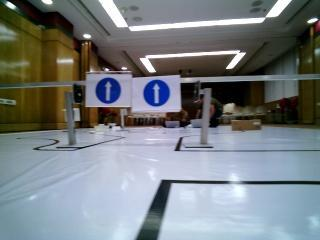straight: (85, 72, 131, 106), (135, 80, 180, 111)
